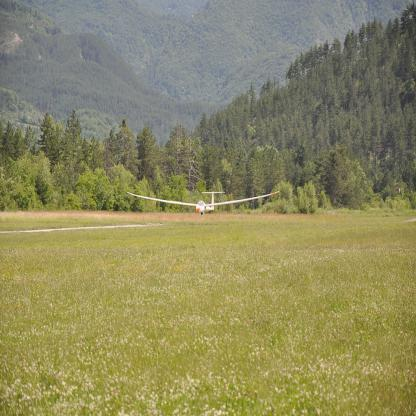aircraft: (126, 190, 279, 213)
